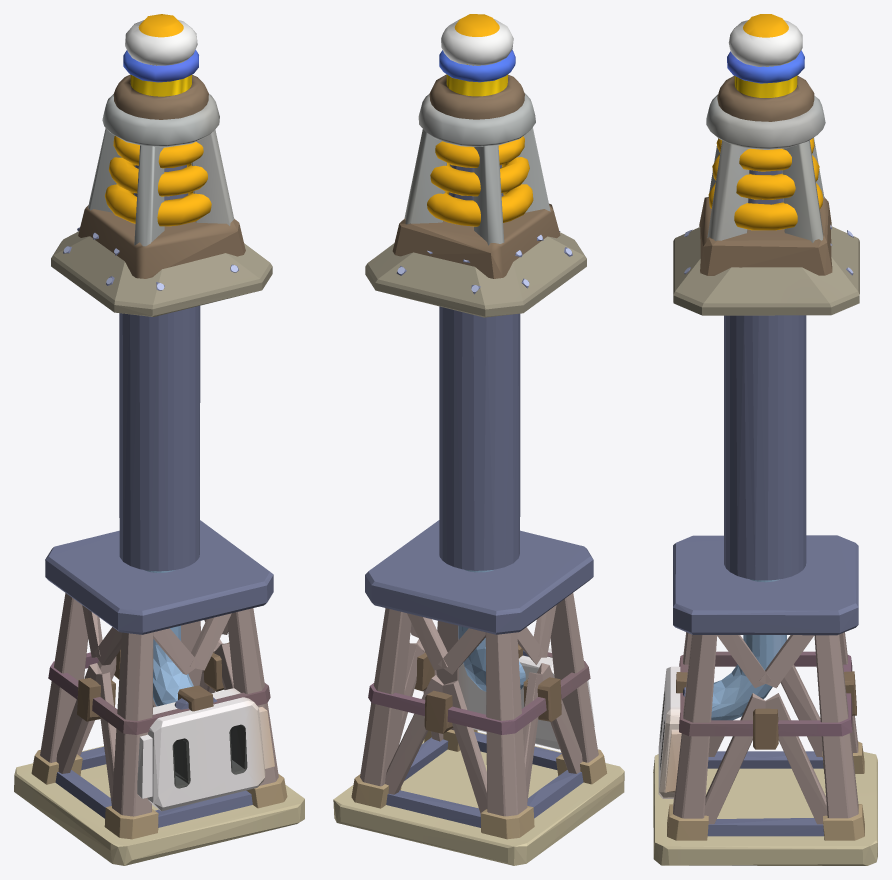
The model's file is dianwangta02.FBX.
The picture shows the model from 3 angles, left to right: view 1: azimuth 30°, elevation 25°; view 2: azimuth 150°, elevation 25°; view 3: azimuth 270°, elevation 25°; orthographic projection.
Visible parts, largest first — view 1: Group63243; view 2: Group63243; view 3: Group63243.
Part boxes in pixels (bbox=[...]): Group63243: bbox=[14, 14, 304, 865]; Group63243: bbox=[333, 14, 624, 865]; Group63243: bbox=[653, 14, 877, 865].
Bounding box in the file's own units: 275 × 1067 × 272.
